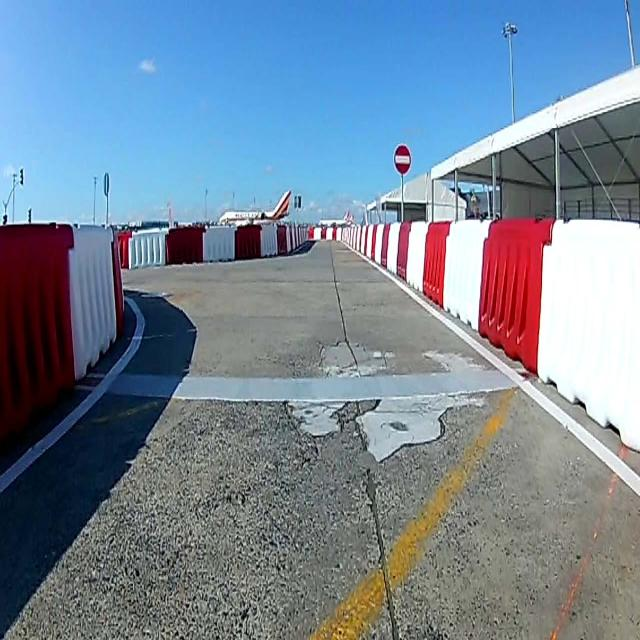girisyok: (393, 144, 412, 176)
